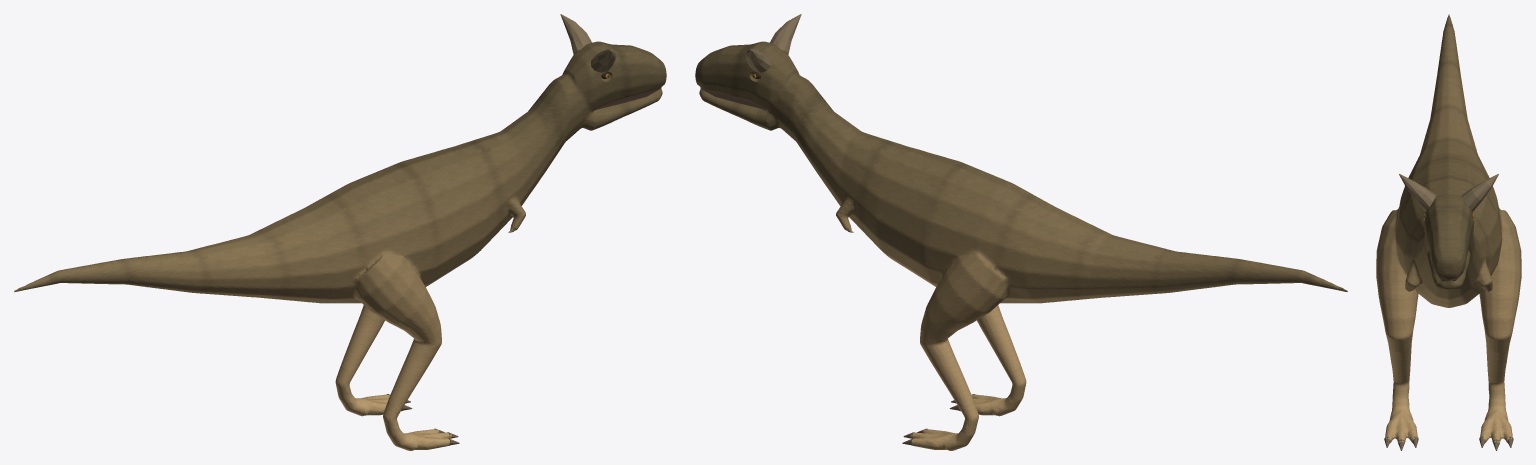
3 renders of one model, left to right at view 1: azimuth 30°, elevation 25°; view 2: azimuth 150°, elevation 25°; view 3: azimuth 270°, elevation 25°, orthographic.
Visible parts, largest first — view 1: Integrated axial body; view 2: Integrated axial body; view 3: Integrated axial body, Brow horn.001, Brow horn.
Part boxes in pixels (bbox=[...]): Integrated axial body: bbox=[14, 41, 666, 450]; Integrated axial body: bbox=[695, 41, 1347, 450]; Integrated axial body: bbox=[1376, 14, 1521, 444]; Brow horn.001: bbox=[1461, 174, 1498, 211]; Brow horn: bbox=[1399, 174, 1436, 211].
Size of the model in its own units: 0.9954 by 0.5146 by 0.1931.
Materials: 6 (1 with a texture image).
